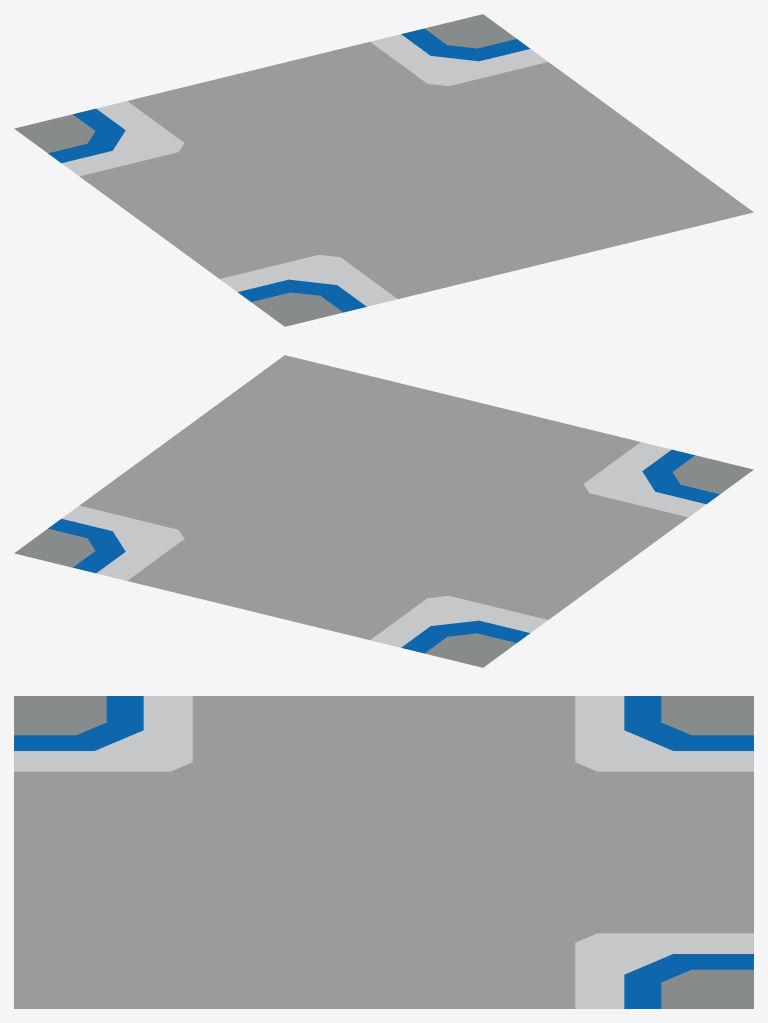
File: Ceiling_type_A_006.fbx
3 views of the same model, one above another, from view 1: azimuth 30°, elevation 25°; view 2: azimuth 150°, elevation 25°; view 3: azimuth 270°, elevation 25° (orthographic). The views are drawn at different scales.
Visible parts, largest first — view 1: Ceiling_type_A_006; view 2: Ceiling_type_A_006; view 3: Ceiling_type_A_006.
Part boxes in pixels (x1,y1,x2,y2): Ceiling_type_A_006: (14,14,753,326); Ceiling_type_A_006: (14,355,753,667); Ceiling_type_A_006: (14,696,753,1008).
Size of the model in its own units: 400 by 400 by 4.55.
